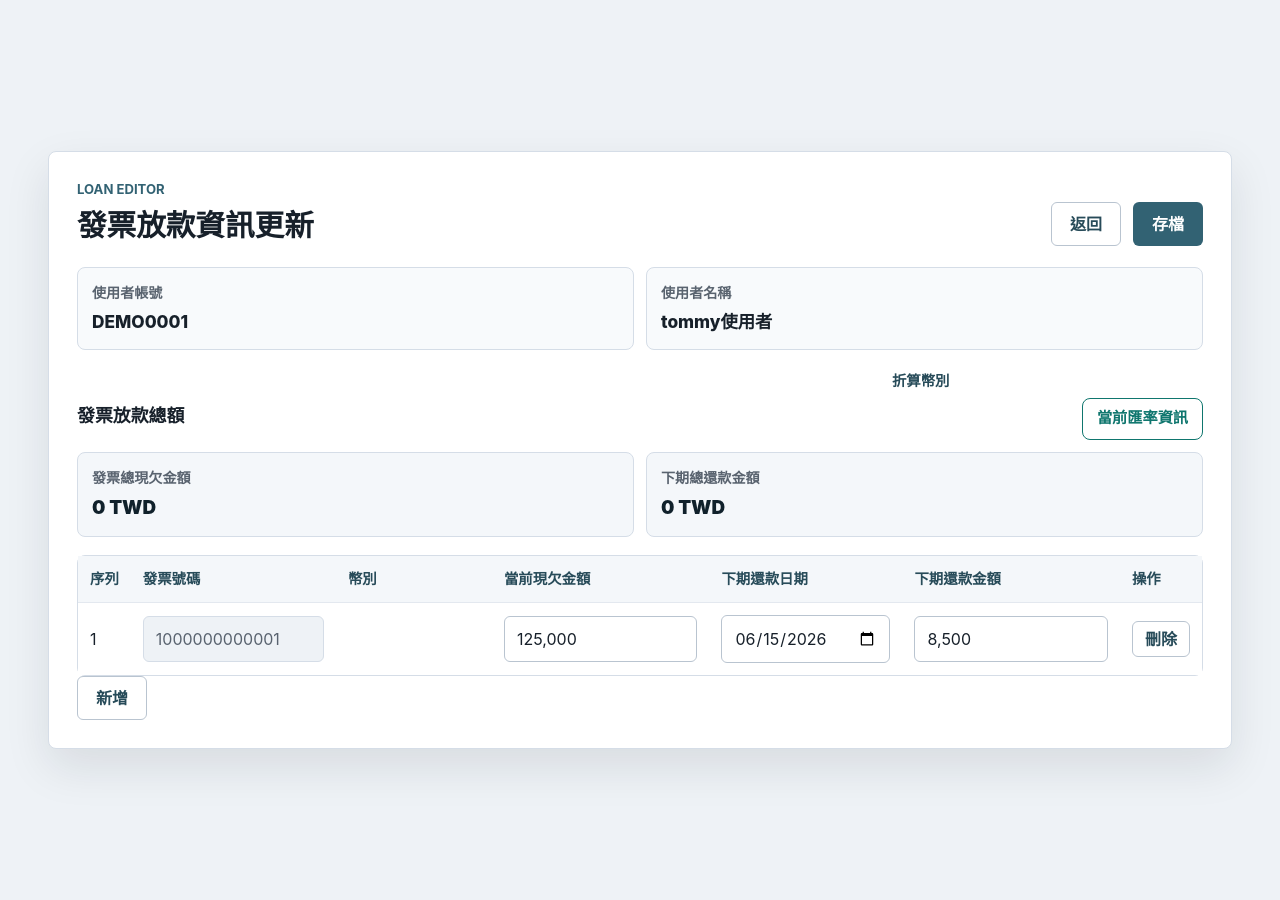
Test: UpdateLoansView › 發票號碼輸入時只保留 13 碼數字
The image size is (1280, 900).
Click the button "新增" at (112, 698), box [77, 676, 147, 720]
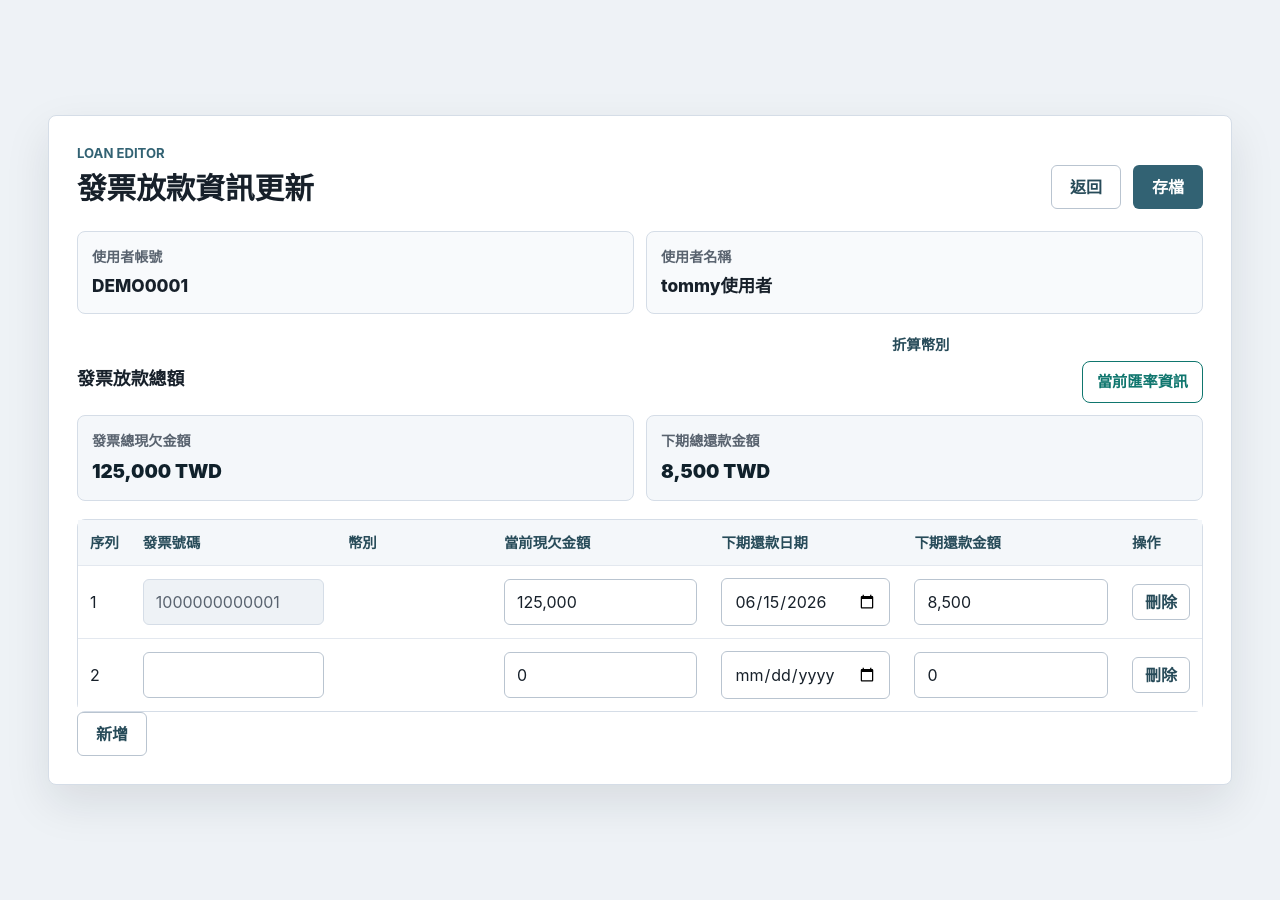
Type "A123456789012345" into the 2nd field named "發票號碼" at (233, 675), box [143, 652, 324, 698]
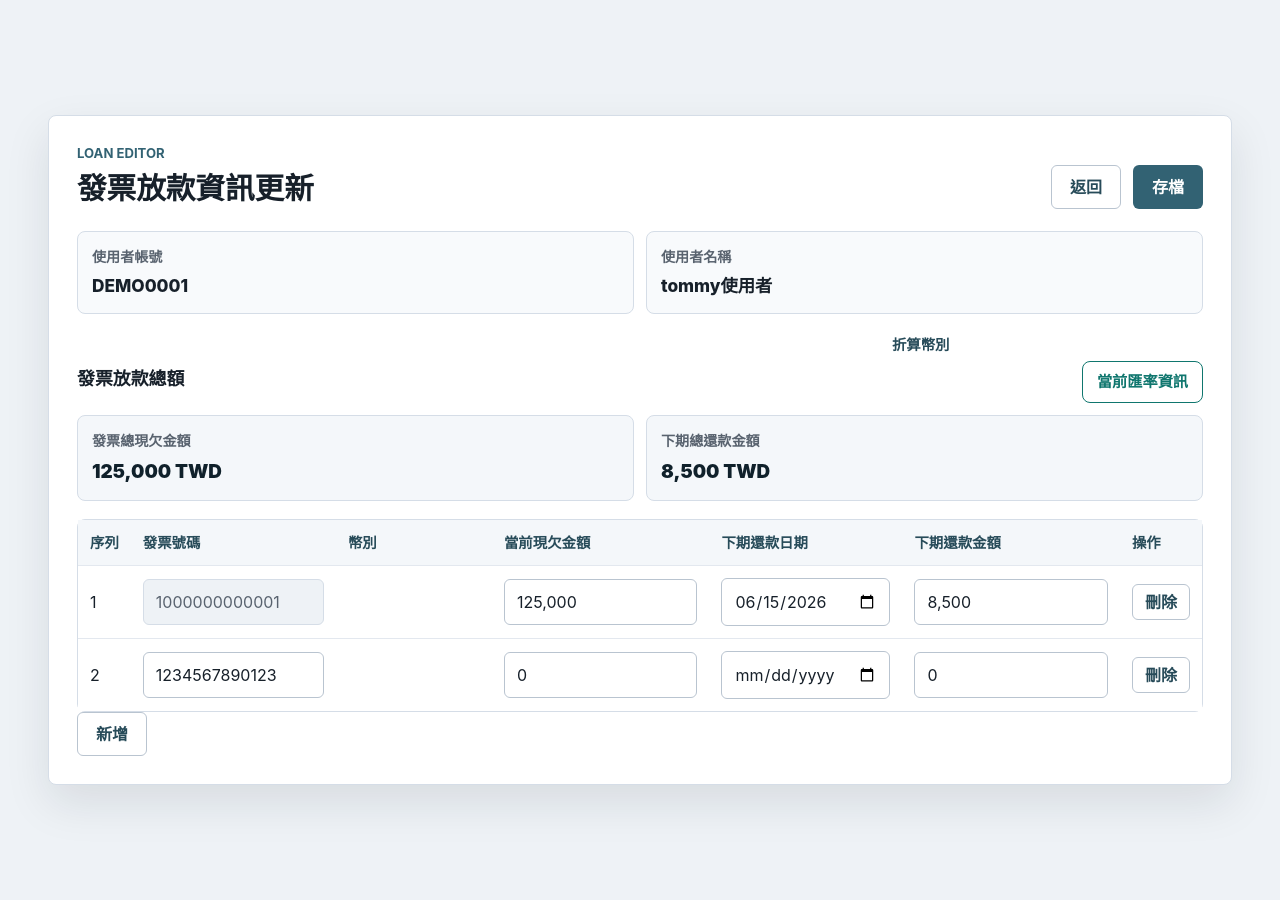
Expected: the 2nd field named "發票號碼" holds "1234567890123", [143, 652, 324, 698]
